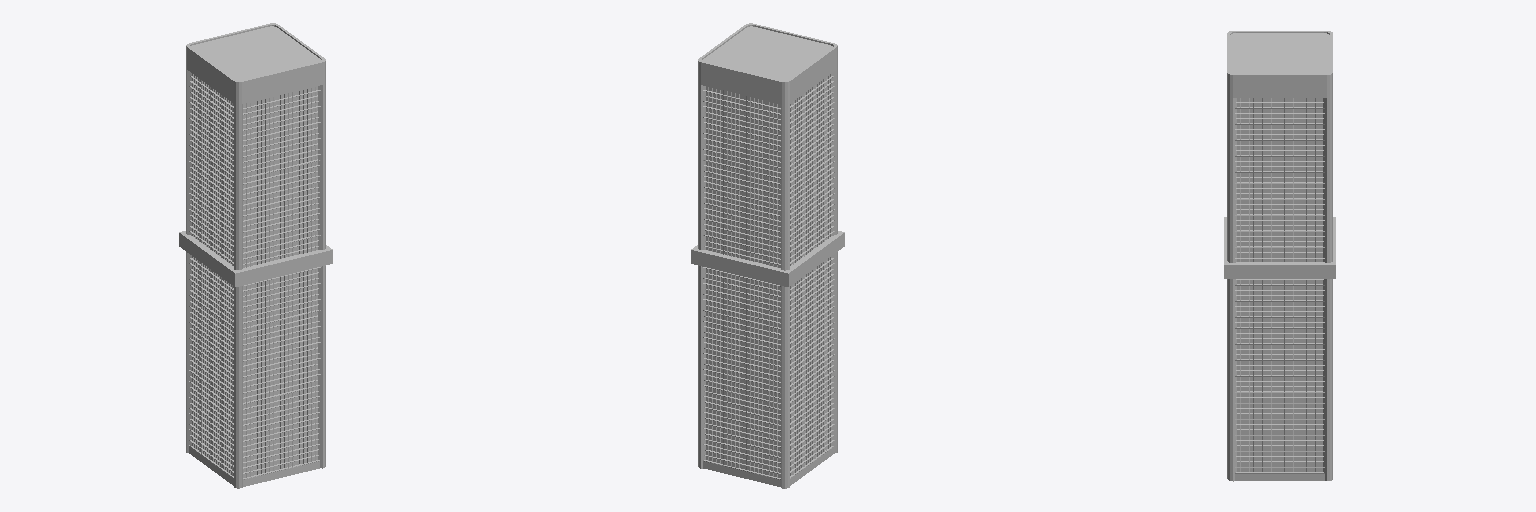
Rendered from Building.obj.
3 renders of one model, left to right at view 1: azimuth 30°, elevation 25°; view 2: azimuth 150°, elevation 25°; view 3: azimuth 270°, elevation 25°, orthographic.
Parts seen in each view (by area): view 1: Gengon01.001, Box01.001; view 2: Gengon01.001, Box01.001; view 3: Gengon01.001, Box01.001.
Part boxes in pixels (left/top/right/bottom): Gengon01.001: left=186, top=23, right=325, bottom=488; Box01.001: left=179, top=231, right=332, bottom=286; Gengon01.001: left=698, top=23, right=837, bottom=488; Box01.001: left=691, top=231, right=844, bottom=286; Gengon01.001: left=1227, top=31, right=1332, bottom=481; Box01.001: left=1224, top=217, right=1335, bottom=278.
Bounding box in the file's own units: 0.51 × 2.03 × 0.51.